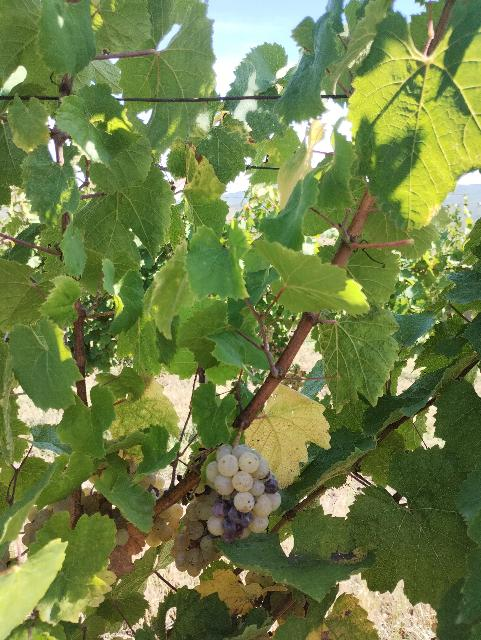grapes: (171, 444, 281, 576)
